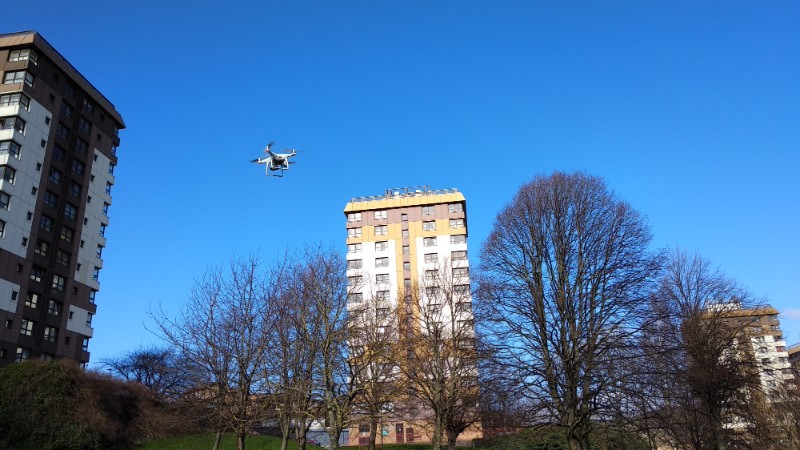drone: (249, 142, 307, 179)
